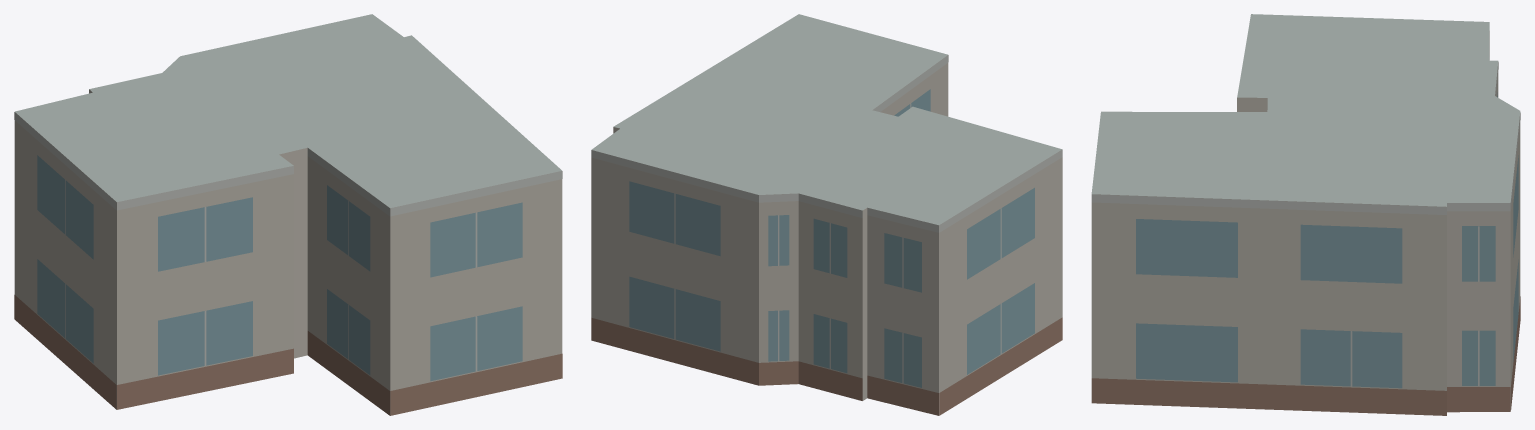
File: survey-upis-32685458.glb
3 views of the same model, side by side, from view 1: azimuth 30°, elevation 25°; view 2: azimuth 150°, elevation 25°; view 3: azimuth 270°, elevation 25° (orthographic). The views are drawn at different scales.
Visible parts, largest first — view 1: survey-upis-32685458.tmp; view 2: survey-upis-32685458.tmp; view 3: survey-upis-32685458.tmp.
Part boxes in pixels (x1=…): survey-upis-32685458.tmp: x1=14, y1=14, x2=562, y2=415; survey-upis-32685458.tmp: x1=591, y1=14, x2=1062, y2=415; survey-upis-32685458.tmp: x1=1091, y1=14, x2=1520, y2=415.
Bounding box in the file's own units: 12.07 × 6.1 × 11.35.
